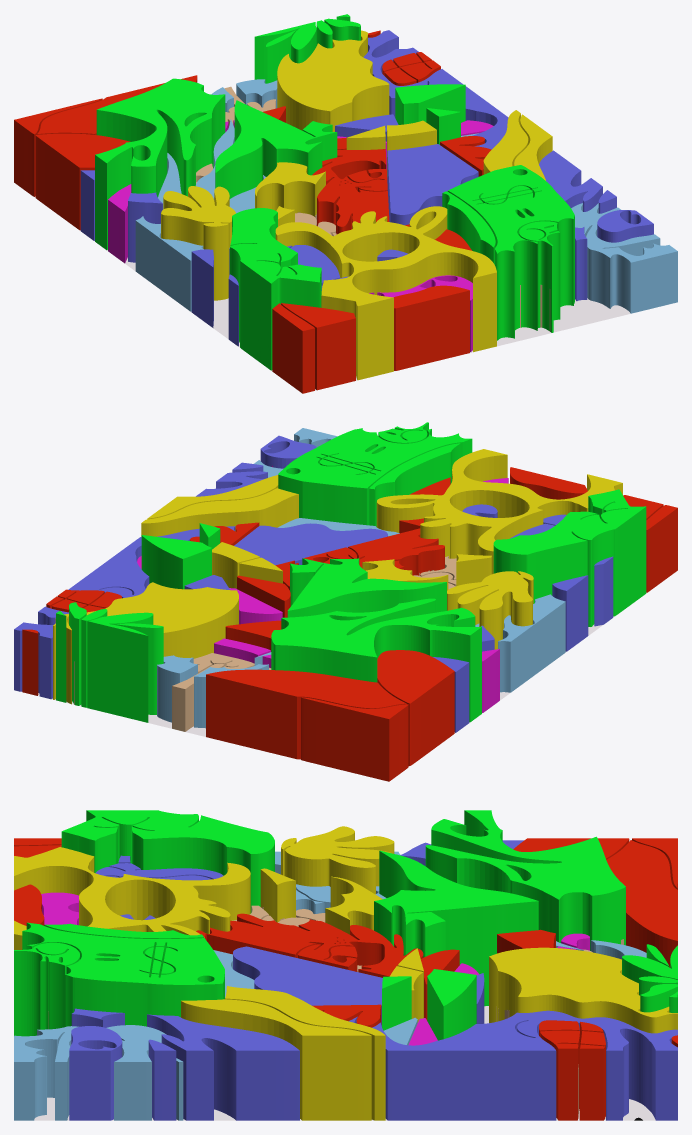
Rendered from fresque_glass.fbx.
The picture shows the model from 3 angles, top to bottom: view 1: azimuth 30°, elevation 25°; view 2: azimuth 150°, elevation 25°; view 3: azimuth 270°, elevation 25°; orthographic projection. The views are drawn at different scales.
Visible parts, largest first — view 1: path0, path5, path2, path3, path4, path6, path1, path7; view 2: path0, path2, path5, path3, path4, path6, path7; view 3: path0, path3, path5, path2, path4, path6, path1, path7.
Boxes of the visible parts, x1=… form: path0: x1=95, y1=14, x2=574, y2=370; path5: x1=161, y1=30, x2=552, y2=380; path2: x1=14, y1=30, x2=491, y2=393; path3: x1=80, y1=30, x2=653, y2=346; path4: x1=135, y1=79, x2=677, y2=313; path6: x1=108, y1=120, x2=493, y2=351; path1: x1=34, y1=196, x2=630, y2=390; path7: x1=196, y1=86, x2=550, y2=331; path0: x1=56, y1=422, x2=646, y2=722; path2: x1=22, y1=467, x2=677, y2=781; path5: x1=53, y1=449, x2=622, y2=704; path3: x1=14, y1=435, x2=613, y2=732; path4: x1=157, y1=428, x2=565, y2=728; path6: x1=137, y1=465, x2=508, y2=712; path7: x1=74, y1=556, x2=456, y2=731; path0: x1=14, y1=810, x2=677, y2=1040; path3: x1=69, y1=840, x2=677, y2=1120; path5: x1=14, y1=826, x2=677, y2=1120; path2: x1=14, y1=838, x2=677, y2=1120; path4: x1=14, y1=851, x2=646, y2=1120; path6: x1=41, y1=892, x2=589, y2=1045; path1: x1=34, y1=1006, x2=655, y2=1120; path7: x1=48, y1=905, x2=623, y2=1117.
Size of the model in its own units: 535 by 119 by 713.
